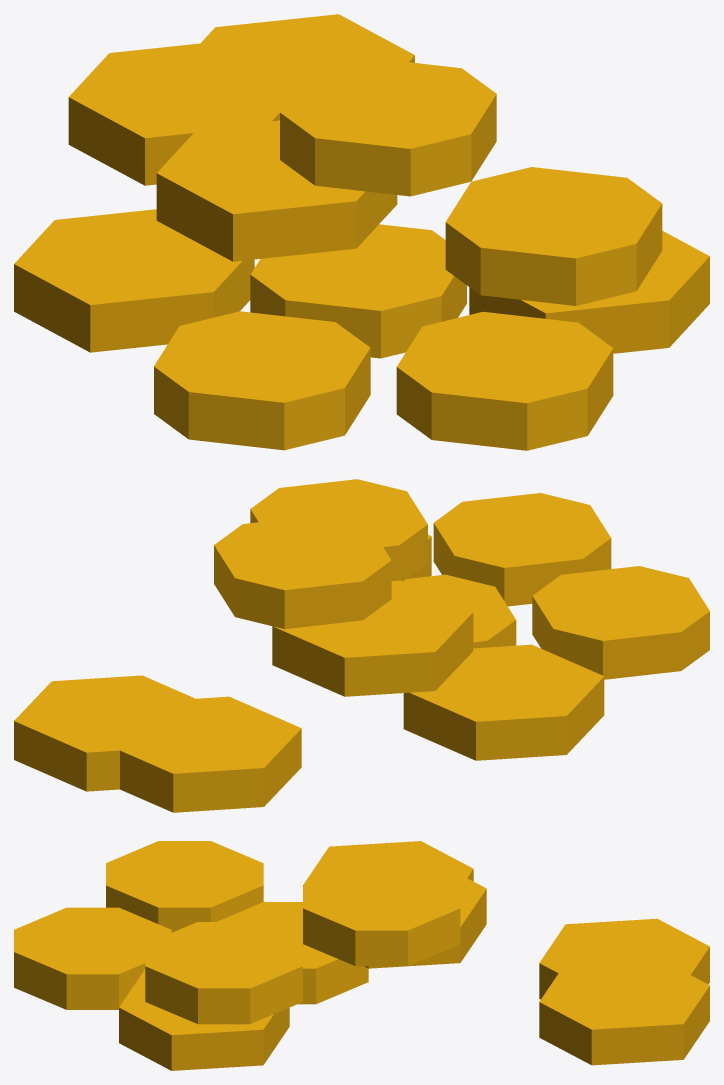
3 views of the same model, one above another, from view 1: azimuth 30°, elevation 25°; view 2: azimuth 150°, elevation 25°; view 3: azimuth 270°, elevation 25° (orthographic). The views are drawn at different scales.
Parts seen in each view (by area): view 1: 2825; view 2: 2825; view 3: 2825.
Boxes of the visible parts, x1,y1,x2,y2 form: 2825: (14, 14, 709, 450); 2825: (14, 479, 709, 812); 2825: (14, 841, 709, 1070).
Bounding box in the file's own units: 35 × 9 × 53.
